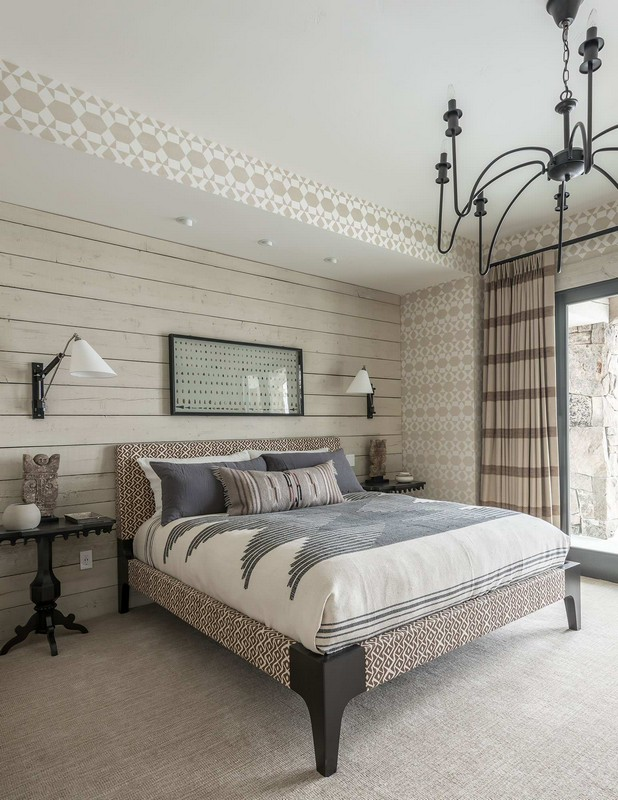bed: (112, 428, 581, 773)
lamp: (32, 334, 117, 423), (341, 362, 379, 421)
stool: (6, 506, 111, 666)
